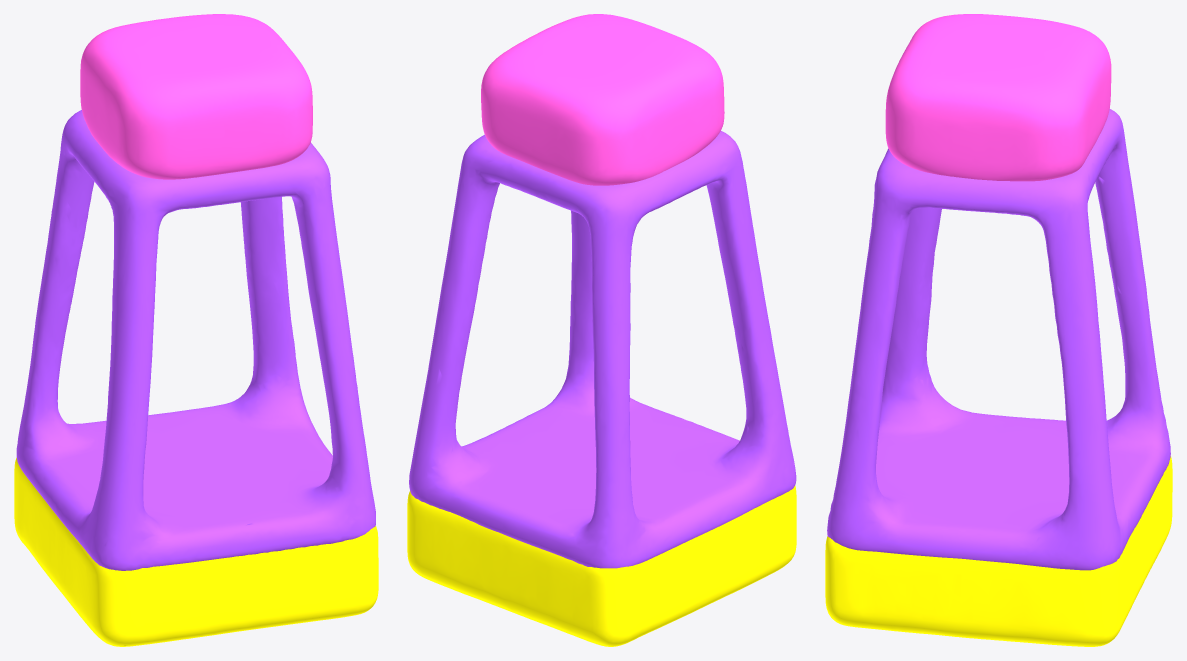
Rendered from ex3_gen2.glb.
The picture shows the model from 3 angles, left to right: view 1: azimuth 30°, elevation 25°; view 2: azimuth 150°, elevation 25°; view 3: azimuth 270°, elevation 25°; orthographic projection. The views are drawn at different scales.
Parts seen in each view (by area): view 1: geometry_0, geometry_1, geometry_2; view 2: geometry_0, geometry_1, geometry_2; view 3: geometry_0, geometry_1, geometry_2.
Boxes of the visible parts, x1,y1,x2,y2 form: geometry_0: (16, 110, 375, 570); geometry_1: (80, 14, 312, 179); geometry_2: (14, 458, 378, 646); geometry_0: (409, 131, 796, 568); geometry_1: (481, 14, 724, 185); geometry_2: (407, 485, 796, 646); geometry_0: (827, 109, 1170, 570); geometry_1: (885, 14, 1111, 181); geometry_2: (825, 456, 1172, 646).
Size of the model in its own units: 0.6916 by 1.19 by 0.6997.
